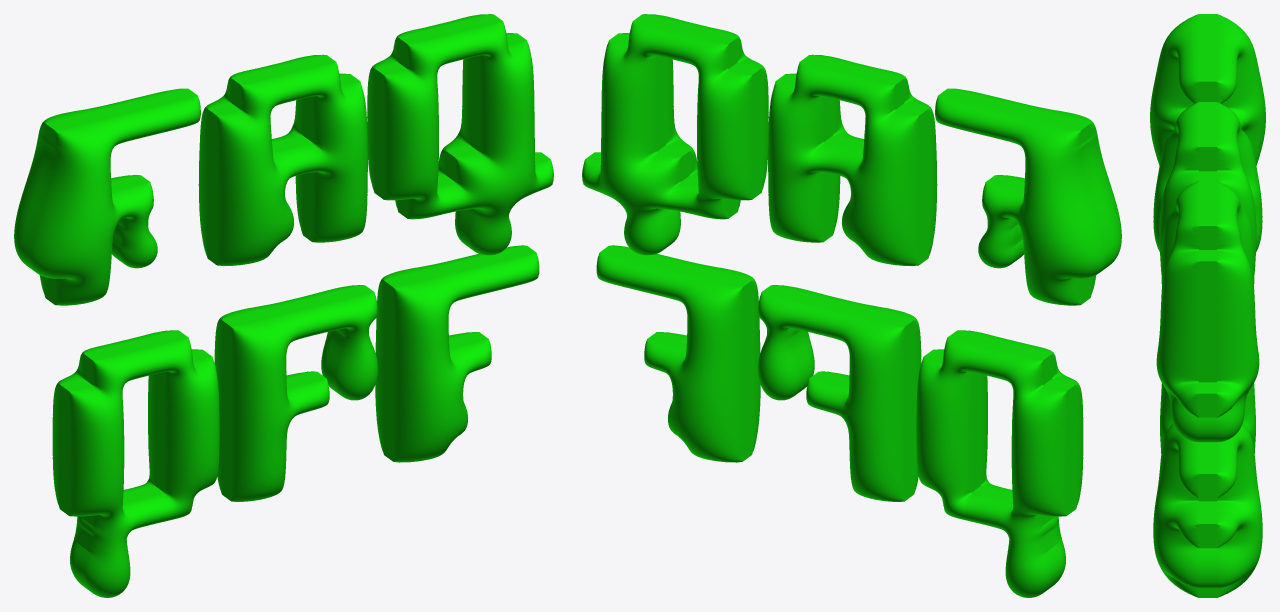
File: FAQ-SNOT.glb
3 renders of one model, left to right at view 1: azimuth 30°, elevation 25°; view 2: azimuth 150°, elevation 25°; view 3: azimuth 270°, elevation 25°, orthographic. The views are drawn at different scales.
Visible parts, largest first — view 1: Mesh_5, Mesh_2, Mesh_3, Mesh_4, Mesh_1.002, Mesh_0.003; view 2: Mesh_5, Mesh_2, Mesh_3, Mesh_4, Mesh_1.002, Mesh_0.003; view 3: Mesh_5, Mesh_0.003, Mesh_4, Mesh_3, Mesh_1.002.
Boxes of the visible parts, <box> form: Mesh_5: <box>367,14,553,255</box>; Mesh_2: <box>52,330,219,597</box>; Mesh_3: <box>198,54,367,265</box>; Mesh_4: <box>14,88,200,305</box>; Mesh_1.002: <box>214,285,377,501</box>; Mesh_0.003: <box>375,245,539,462</box>; Mesh_5: <box>582,14,768,255</box>; Mesh_2: <box>916,330,1083,597</box>; Mesh_3: <box>768,54,937,265</box>; Mesh_4: <box>935,88,1121,305</box>; Mesh_1.002: <box>758,285,921,501</box>; Mesh_0.003: <box>596,245,760,462</box>; Mesh_5: <box>1156,181,1259,442</box>; Mesh_0.003: <box>1153,423,1262,597</box>; Mesh_4: <box>1150,14,1265,165</box>; Mesh_3: <box>1153,102,1262,271</box>; Mesh_1.002: <box>1160,383,1255,453</box>.
Bounding box in the file's own units: 0.0382 × 0.0335 × 0.00761.
